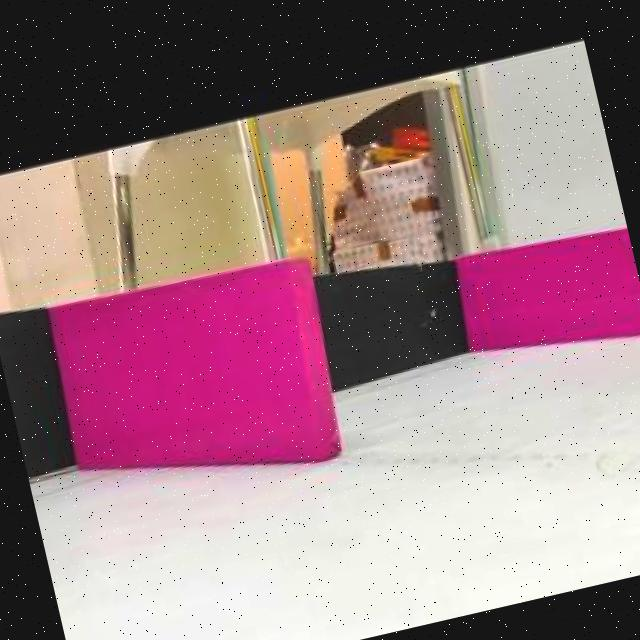xparking: (55, 259, 338, 492), (461, 227, 640, 357)
